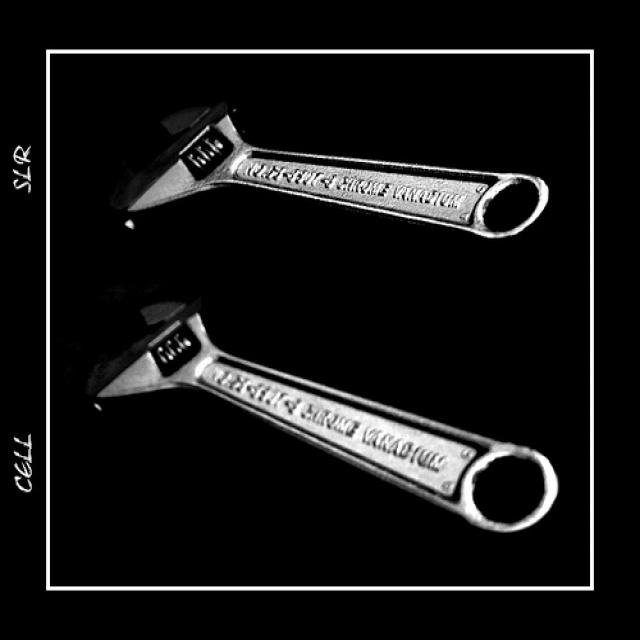wrench: (84, 268, 627, 542), (85, 69, 577, 279)
